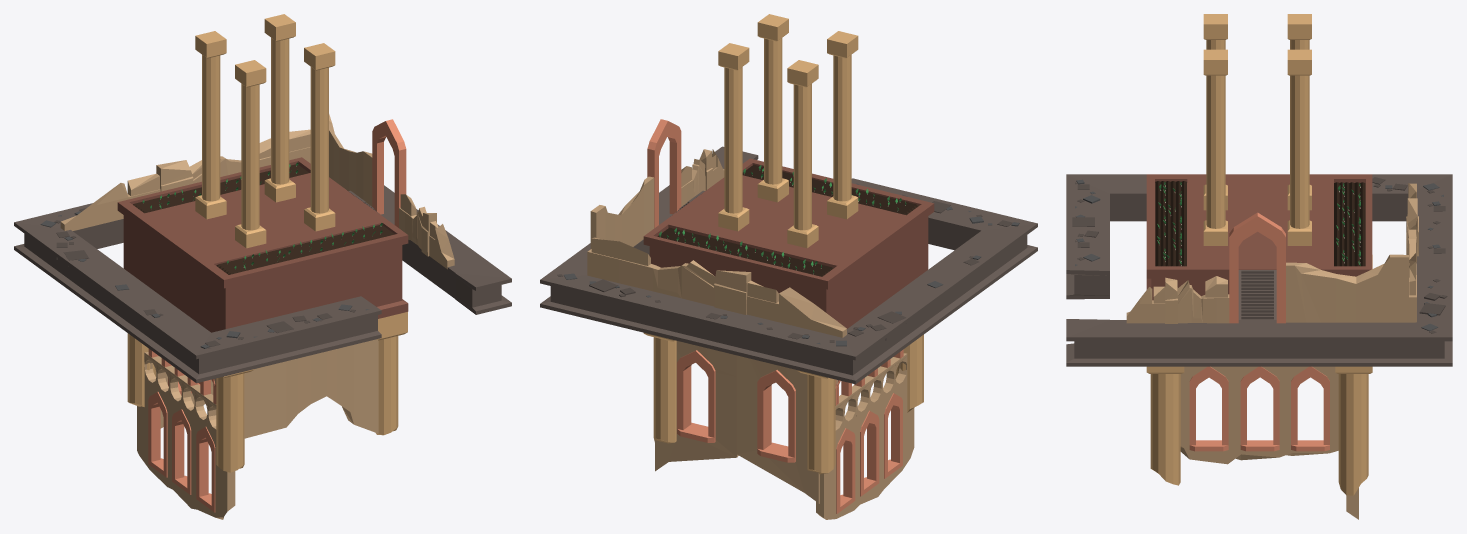
The picture shows the model from 3 angles, left to right: view 1: azimuth 30°, elevation 25°; view 2: azimuth 150°, elevation 25°; view 3: azimuth 270°, elevation 25°; orthographic projection. The views are drawn at different scales.
Parts seen in each view (by area): view 1: polySurface1; view 2: polySurface1; view 3: polySurface1.
Boxes of the visible parts, x1,y1,x2,y2 form: polySurface1: [14, 14, 511, 519]; polySurface1: [540, 14, 1037, 519]; polySurface1: [1066, 14, 1452, 519].
Size of the model in its own units: 15.41 by 20.5 by 15.41.
